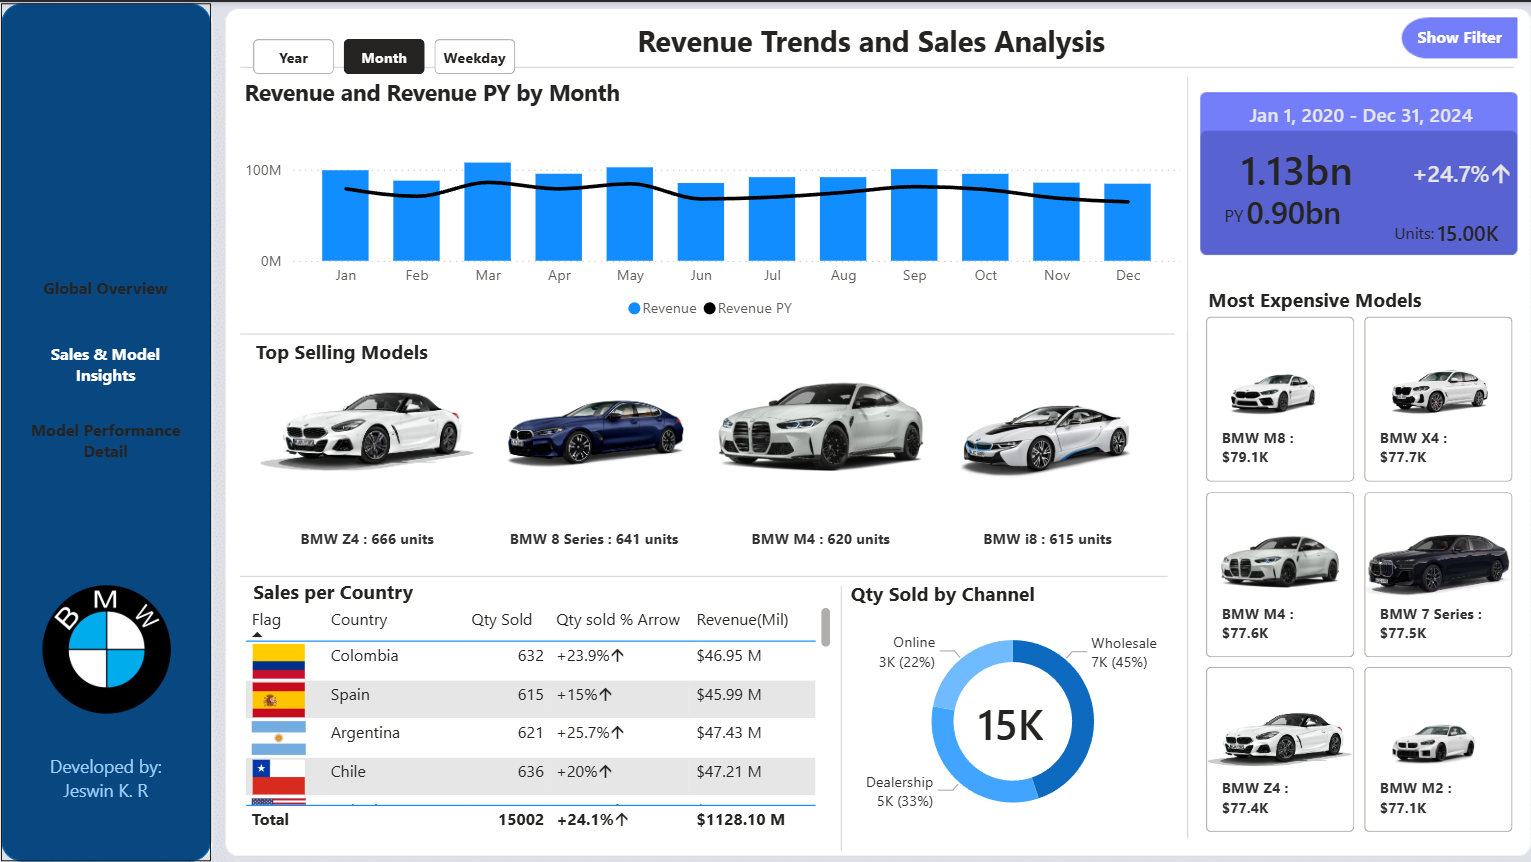

This screenshot's page, from the dashboard's own definition file:
{"tool":"powerbi","page":{"name":"Sales & Model Insights","canvas":[1280,720],"ordinal":1},"visuals":[{"type":"lineClusteredColumnComboChart","fields":{"Category":["Calender.Month"],"Y":["fact_Sales.Revenue"],"Y2":["fact_Sales.Revenue PY"]},"box":[196.5,57,786,215.1],"z":0},{"type":"tableEx","fields":{"Values":["dim_country.Flag","dim_country.Country","fact_Sales.Qty Sold","fact_Sales.Qty sold % Arrow","fact_Sales.Revenue (Millions)"]},"box":[196.5,501.2,496.5,190],"z":1000},{"type":"card","fields":{"Values":["fact_Sales.Revenue"]},"box":[1010.5,115.1,127.9,48.8],"z":2000},{"type":"card","fields":{"Values":["fact_Sales.Revenue PY"]},"box":[1024,160,96,32],"z":3000},{"type":"textbox","box":[1009.3,162.8,31.4,47.7],"z":4000},{"type":"card","fields":{"Values":["fact_Sales.Revenue Variance % Arrow"]},"box":[1152,128,112,32],"z":5000},{"type":"card","fields":{"Values":["fact_Sales.Selected Period"]},"box":[1024,80,208,32],"z":6000},{"type":"advancedSlicerVisual","fields":{"Values":["dim_model.Car Images.img"],"Label":["fact_Sales.Model_And_Units"]},"box":[188.4,277.9,794.2,193],"z":7000},{"type":"card","fields":{"Values":["fact_Sales.Qty Sold"]},"box":[1152.3,168.6,127.9,48.8],"z":8000},{"type":"textbox","box":[1150,176.7,54.7,47.7],"z":9000},{"type":"advancedSlicerVisual","fields":{"Values":["dim_model.Car Images.img"],"Label":["fact_Sales.Model_And_Price"]},"box":[974.4,255.8,304.7,437.2],"z":10000},{"type":"textbox","box":[205.8,273.3,160.5,33.7],"z":11000},{"type":"textbox","box":[995.9,229.6,197.7,34.4],"z":12000},{"type":"donutChart","fields":{"Y":["fact_Sales.Qty Sold"],"Category":["dim_channel.Channel"]},"box":[700,479.1,279.1,214],"z":13000},{"type":"cardVisual","fields":{"Data":["fact_Sales.Qty Sold"]},"box":[793.3,537.8,117.9,110.5],"z":14000},{"type":"advancedSlicerVisual","fields":{"Values":["PeriodSlicer.PeriodSlicer"]},"box":[204.7,25.6,227.9,39.5],"z":15000},{"type":"textbox","box":[204.7,472.1,180.2,33.7],"z":16000},{"type":"actionButton","box":[1151.9,8.7,114.2,39.7],"z":18000},{"type":"shape","box":[0,1.2,174.4,711.6],"z":19000},{"type":"pageNavigator","box":[18.6,210.5,136,179.1],"z":20000},{"type":"image","box":[0,479.1,174.4,116.3],"z":21000},{"type":"textbox","box":[432.1,11.3,578.5,55.6],"z":22000},{"type":"textbox","box":[8.1,618.6,157,59.3],"z":23000}]}

Visuals, with their boxes on the page's 1280x720 design canvas (x1, y1, x2, y2). These are canvas units, not pixel positions in the 1531x862 screenshot, which may show the page scaled, cropped or inside an application window:
lineClusteredColumnComboChart - Calender.Month x fact_Sales.Revenue: <bbox>196, 57, 982, 272</bbox>
tableEx - dim_country.Flag x dim_country.Country: <bbox>196, 501, 693, 691</bbox>
card - fact_Sales.Revenue: <bbox>1010, 115, 1138, 164</bbox>
card - fact_Sales.Revenue PY: <bbox>1024, 160, 1120, 192</bbox>
textbox: <bbox>1009, 163, 1041, 210</bbox>
card - fact_Sales.Revenue Variance % Arrow: <bbox>1152, 128, 1264, 160</bbox>
card - fact_Sales.Selected Period: <bbox>1024, 80, 1232, 112</bbox>
advancedSlicerVisual - dim_model.Car Images.img x fact_Sales.Model_And_Units: <bbox>188, 278, 983, 471</bbox>
card - fact_Sales.Qty Sold: <bbox>1152, 169, 1280, 217</bbox>
textbox: <bbox>1150, 177, 1205, 224</bbox>
advancedSlicerVisual - dim_model.Car Images.img x fact_Sales.Model_And_Price: <bbox>974, 256, 1279, 693</bbox>
textbox: <bbox>206, 273, 366, 307</bbox>
textbox: <bbox>996, 230, 1194, 264</bbox>
donutChart - fact_Sales.Qty Sold x dim_channel.Channel: <bbox>700, 479, 979, 693</bbox>
cardVisual - fact_Sales.Qty Sold: <bbox>793, 538, 911, 648</bbox>
advancedSlicerVisual - PeriodSlicer.PeriodSlicer: <bbox>205, 26, 433, 65</bbox>
textbox: <bbox>205, 472, 385, 506</bbox>
actionButton: <bbox>1152, 9, 1266, 48</bbox>
shape: <bbox>0, 1, 174, 713</bbox>
pageNavigator: <bbox>19, 210, 155, 390</bbox>
image: <bbox>0, 479, 174, 595</bbox>
textbox: <bbox>432, 11, 1011, 67</bbox>
textbox: <bbox>8, 619, 165, 678</bbox>
